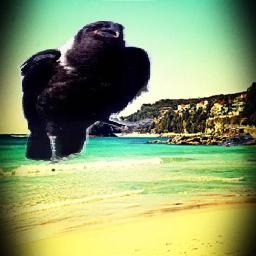Crow: (17, 20, 153, 165)
Woodpecker: (220, 135, 255, 147)
